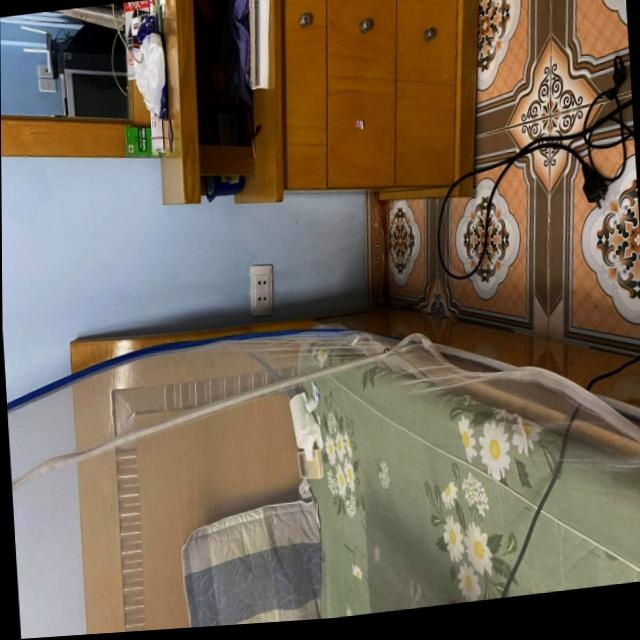outlet: (247, 263, 275, 317)
